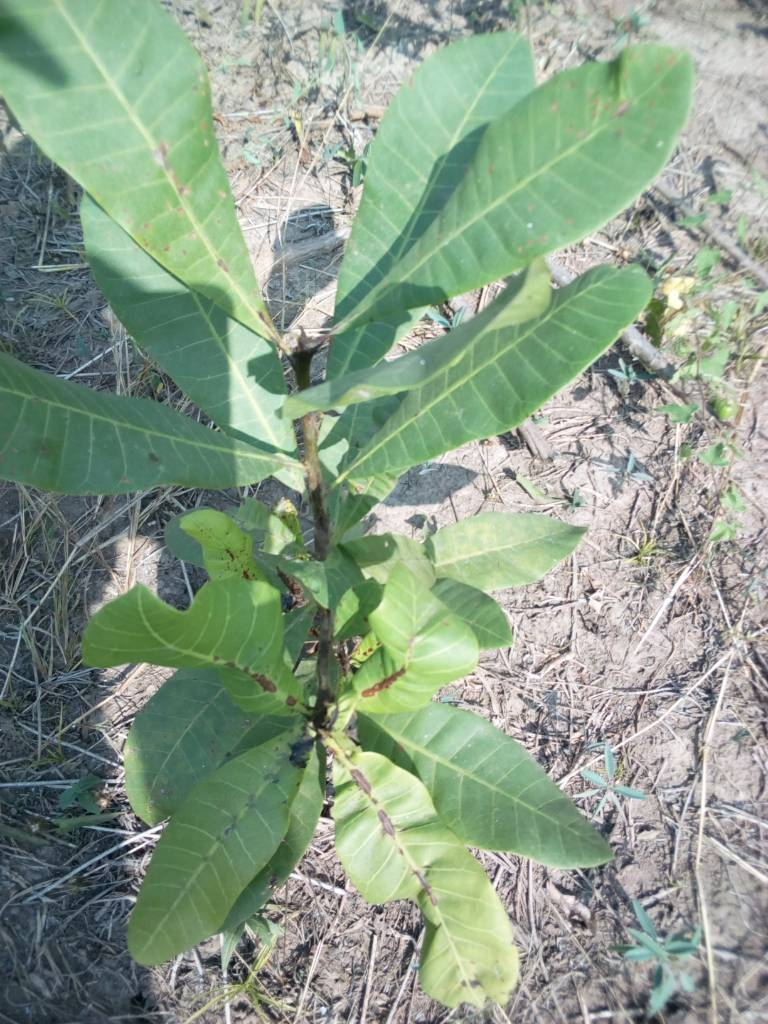Anthracnose: (329, 742, 515, 1003), (118, 736, 310, 983), (136, 586, 302, 714)
